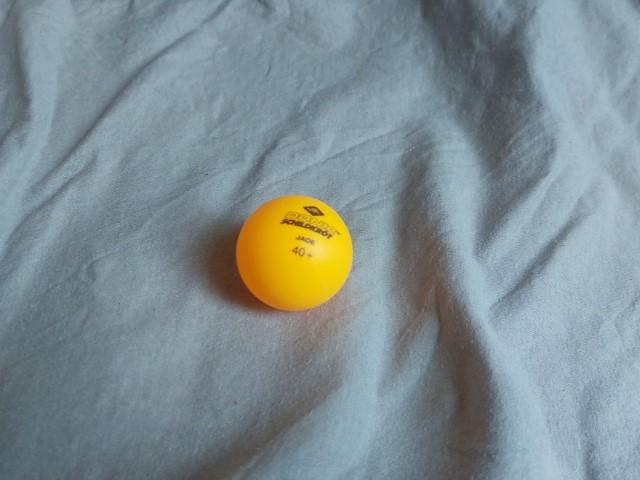oball: (229, 190, 360, 320)
